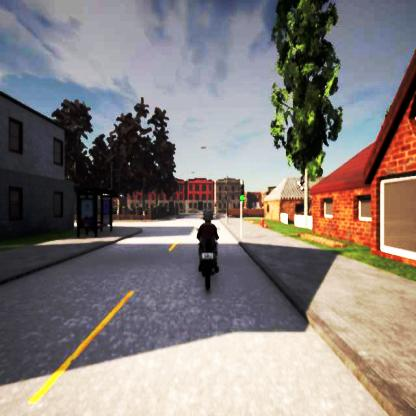motobike: (196, 208, 219, 292)
